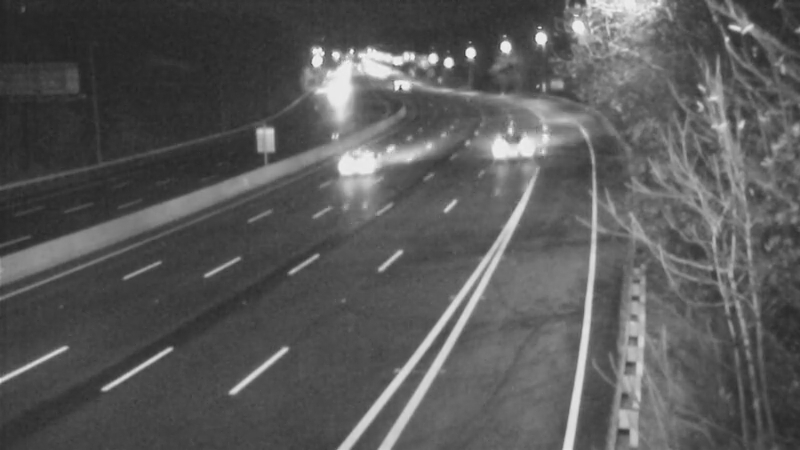vehicle: (319, 123, 399, 203), (373, 65, 423, 115), (490, 122, 540, 172), (310, 68, 360, 118)
